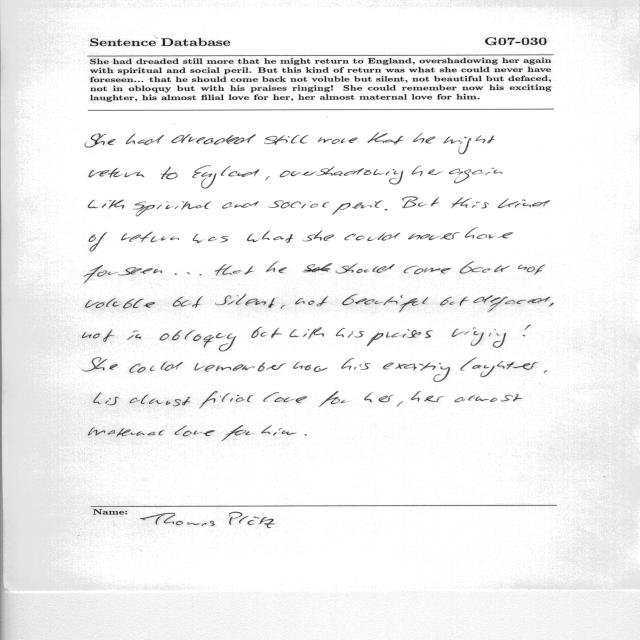word: (280, 167, 403, 185), (192, 165, 260, 189), (160, 330, 236, 351), (342, 294, 428, 312), (460, 358, 538, 377), (84, 265, 162, 283), (383, 362, 450, 382), (473, 295, 550, 312), (133, 201, 211, 216), (367, 329, 433, 346), (452, 328, 506, 348), (444, 136, 495, 155), (171, 134, 256, 145), (194, 362, 286, 372), (199, 391, 253, 408), (215, 294, 275, 308), (449, 168, 502, 183), (89, 427, 165, 437), (332, 200, 382, 215), (86, 298, 155, 308), (130, 395, 190, 406), (460, 261, 510, 274), (336, 263, 395, 274), (121, 232, 179, 243), (247, 230, 293, 243), (129, 362, 183, 373), (465, 227, 513, 239), (89, 168, 145, 178), (455, 394, 523, 402), (345, 232, 401, 241), (83, 358, 118, 372), (268, 201, 329, 209), (263, 392, 307, 403), (367, 132, 404, 145), (498, 199, 550, 208), (222, 425, 251, 441), (215, 264, 253, 276), (264, 135, 308, 145), (175, 426, 215, 437), (85, 134, 116, 148), (319, 391, 346, 407), (289, 327, 324, 339), (126, 134, 164, 145), (408, 232, 460, 240), (402, 197, 439, 208), (452, 198, 489, 209), (293, 361, 328, 372), (82, 330, 114, 342), (404, 266, 451, 274), (295, 296, 328, 307), (411, 391, 444, 402), (173, 296, 203, 308), (303, 231, 335, 242), (262, 425, 297, 435), (342, 358, 371, 370), (89, 232, 107, 251), (251, 327, 282, 338), (94, 393, 119, 406), (88, 200, 124, 209), (193, 234, 229, 243), (412, 166, 443, 176), (318, 137, 358, 144), (336, 328, 364, 338), (302, 263, 332, 272), (518, 265, 545, 275), (365, 393, 394, 402), (222, 202, 259, 209), (266, 261, 287, 273), (440, 297, 468, 306), (413, 133, 435, 144), (161, 167, 178, 179), (128, 330, 141, 340), (175, 272, 201, 275), (523, 325, 530, 336), (397, 401, 403, 407), (265, 176, 270, 181), (549, 303, 554, 307), (281, 305, 285, 309), (544, 371, 547, 374), (305, 434, 307, 436), (385, 209, 388, 210)
